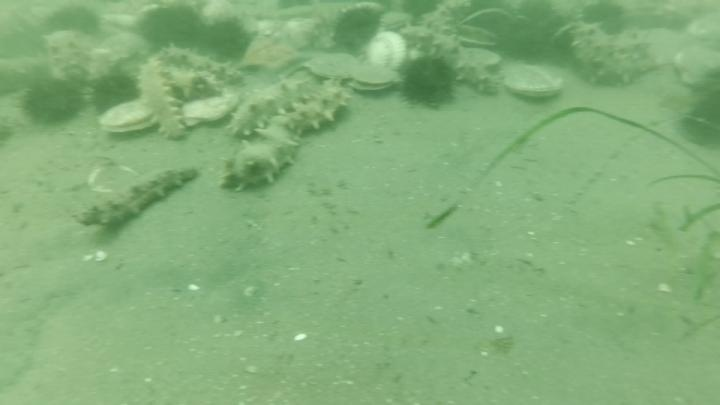echinus: (487, 2, 576, 69), (395, 51, 461, 111), (135, 2, 208, 54), (19, 74, 87, 129), (329, 3, 386, 56), (199, 14, 255, 64), (87, 68, 142, 117), (40, 3, 105, 42), (577, 1, 630, 39), (399, 1, 444, 23)
holothurian: (227, 81, 349, 190), (74, 162, 201, 238), (387, 28, 502, 101), (561, 15, 658, 89), (225, 74, 323, 144), (134, 52, 191, 143), (154, 43, 246, 88), (39, 27, 108, 83), (596, 2, 697, 37), (1, 48, 66, 96), (416, 1, 475, 37)
scallop: (85, 18, 150, 70), (497, 57, 568, 103), (96, 98, 161, 140), (670, 40, 720, 93), (178, 90, 241, 131), (309, 49, 361, 81), (363, 26, 402, 68), (449, 22, 502, 52), (349, 63, 396, 91), (377, 9, 415, 36)
starfish: (237, 29, 313, 81)
